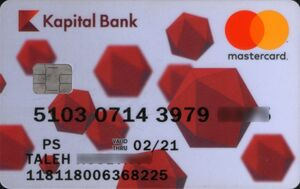Kapital Bank: (18, 9, 40, 32)
